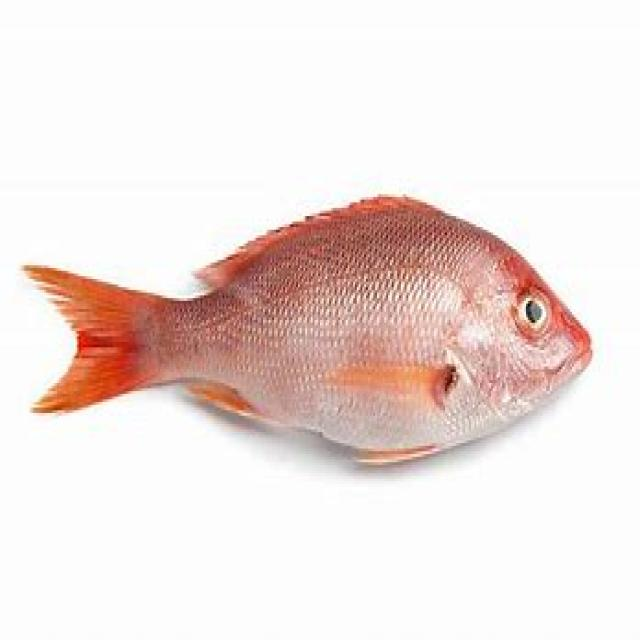Red Snapper: (25, 193, 597, 466)
